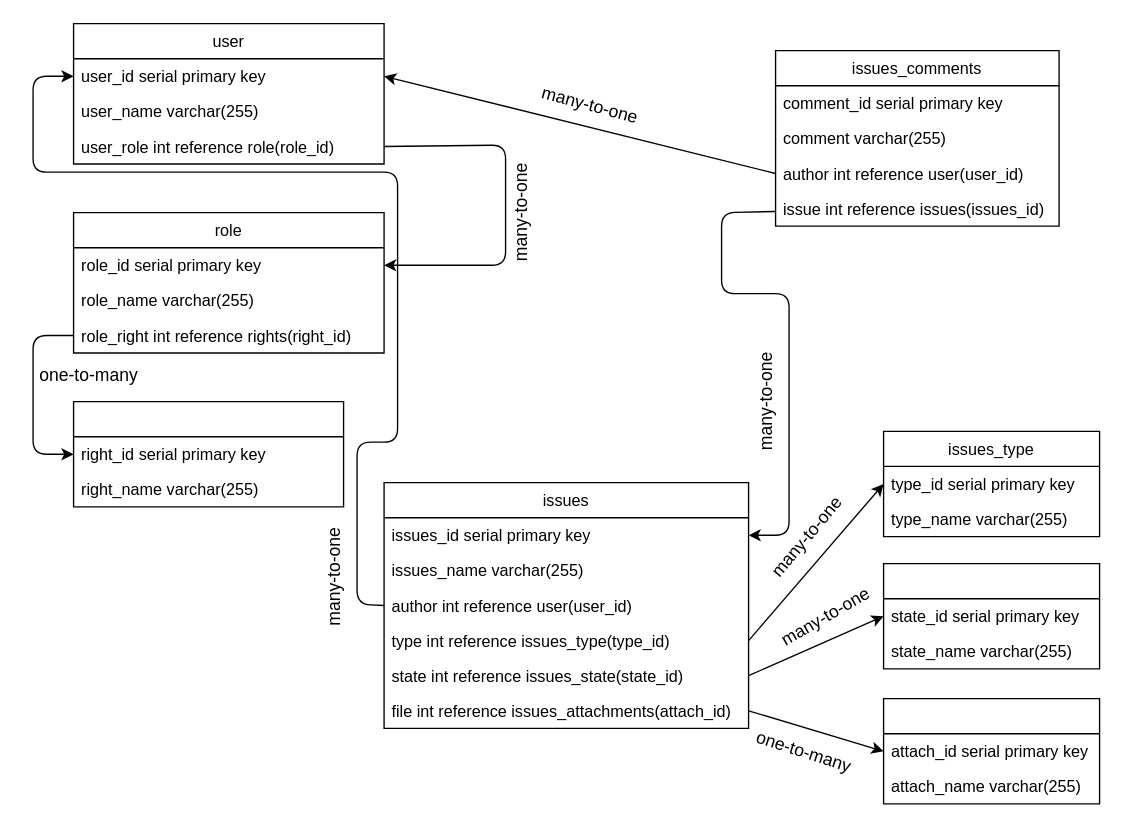
The diagram is 1123 pixels wide and 832 high, and some of its shapes have lost their labels. Each missing label, with the box of its shape:
issue_attachments: (882, 697, 1100, 804)
issues_state: (882, 562, 1100, 669)
rights: (72, 400, 344, 507)
